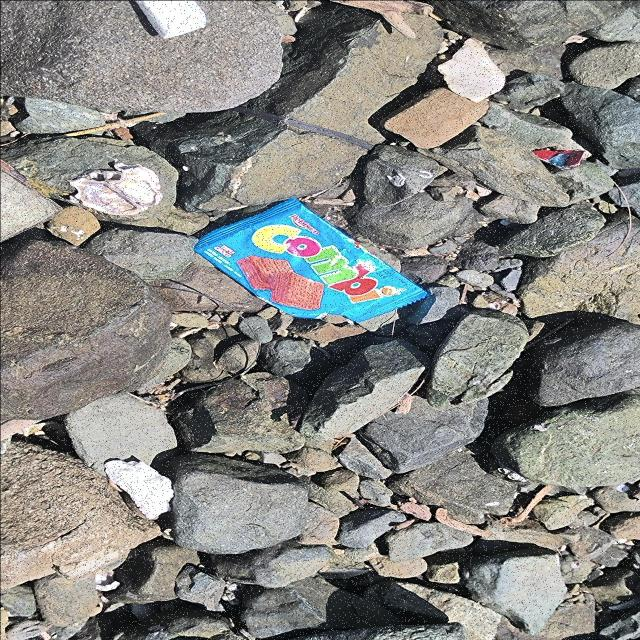plastic_waste: (194, 198, 430, 324)
